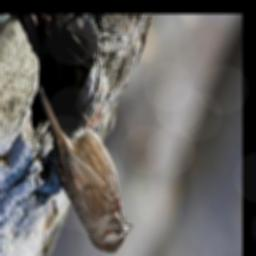Sparrow: (38, 83, 134, 255)
